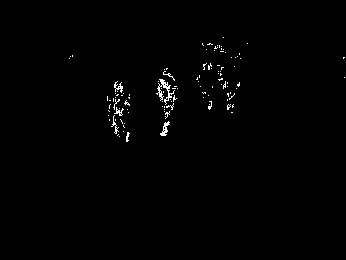person: (104, 78, 135, 147), (154, 67, 180, 139), (214, 59, 241, 115), (197, 60, 217, 116)
